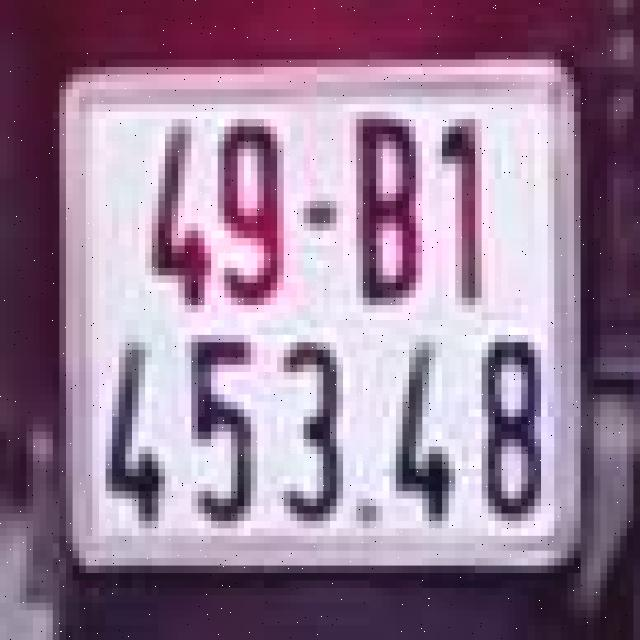1: (435, 108, 495, 309)
3: (277, 331, 350, 525)
4: (92, 335, 172, 528), (386, 331, 459, 525), (142, 119, 214, 313)
5: (185, 331, 257, 525)
8: (478, 335, 544, 521)
9: (224, 115, 290, 309)
B: (346, 108, 426, 309)
